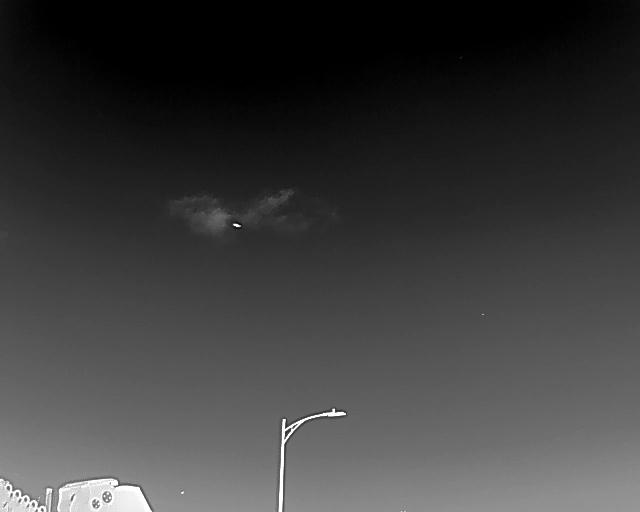fpv-drone: (232, 222, 241, 228)
